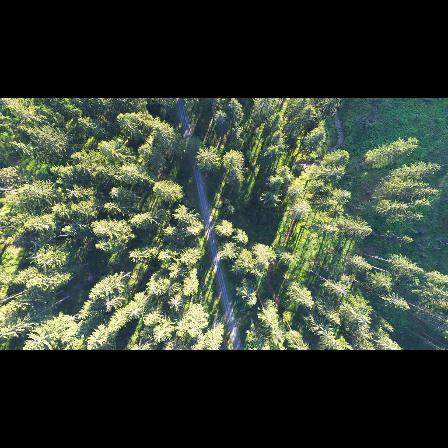Sick: (123, 306, 143, 322), (168, 295, 182, 314)
